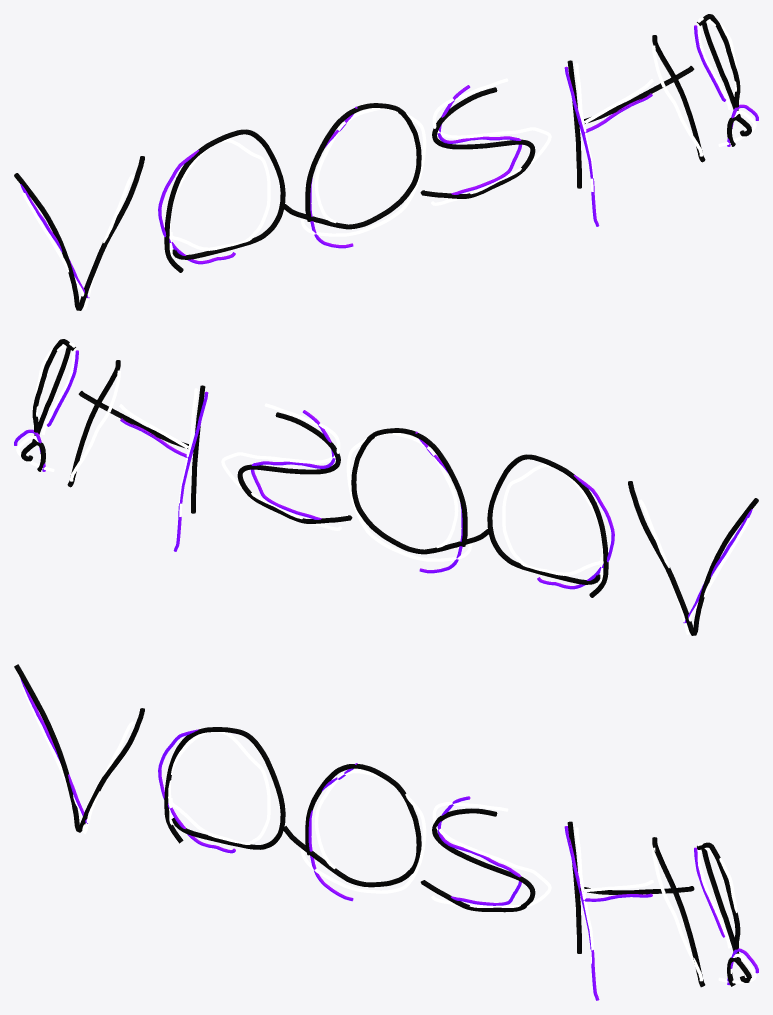
The model's file is voosh-godot.glb.
3 views of the same model, one above another, from view 1: azimuth 30°, elevation 25°; view 2: azimuth 150°, elevation 25°; view 3: azimuth 330°, elevation 25° (orthographic).
Parts seen in each view (by area): view 1: VooshText; view 2: VooshText; view 3: VooshText.
Boxes of the visible parts, x1,y1,x2,y2 form: VooshText: (14,14,758,310); VooshText: (14,339,758,635); VooshText: (14,664,758,1000).
Bounding box in the file's own units: 9.88 × 2.47 × 0.06.
